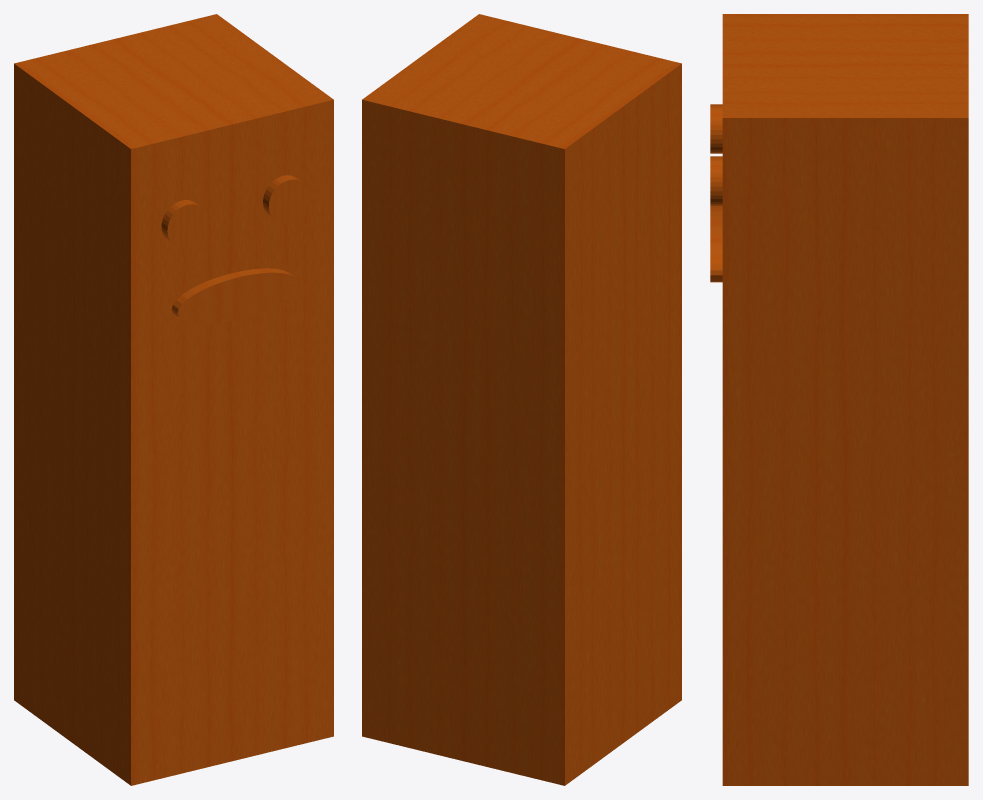
File: character_team2.glb
3 renders of one model, left to right at view 1: azimuth 30°, elevation 25°; view 2: azimuth 150°, elevation 25°; view 3: azimuth 270°, elevation 25°, orthographic. The views are drawn at different scales.
Size of the model in its own units: 1 by 3 by 1.05.
3 materials, 3 textured.
